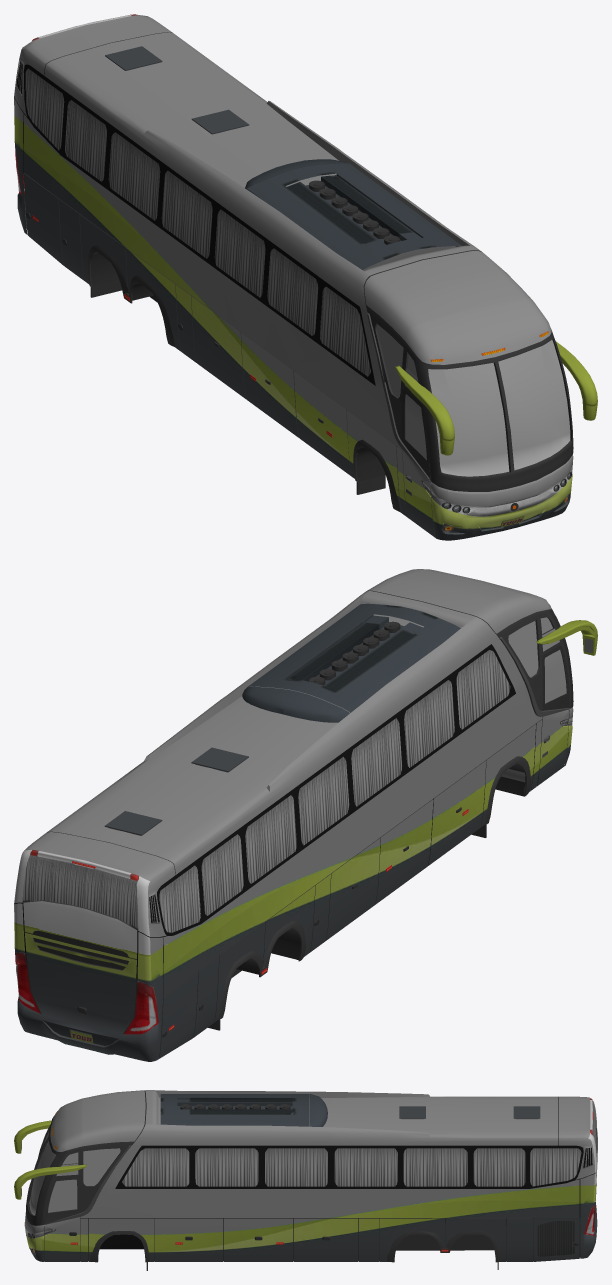
The model's file is BUS_NO_5.FBX.
3 views of the same model, one above another, from view 1: azimuth 30°, elevation 25°; view 2: azimuth 150°, elevation 25°; view 3: azimuth 270°, elevation 25° (orthographic). The views are drawn at different scales.
Parts seen in each view (by area): view 1: BUS_NO_5, Door; view 2: BUS_NO_5, Door; view 3: BUS_NO_5.
Part boxes in pixels (x1=…): BUS_NO_5: x1=14, y1=14, x2=597, y2=540; Door: x1=400, y1=389, x2=435, y2=537; BUS_NO_5: x1=14, y1=569, x2=597, y2=1061; Door: x1=537, y1=645, x2=569, y2=785; BUS_NO_5: x1=14, y1=1090, x2=597, y2=1270.
Size of the model in its own units: 14.18 by 19.28 by 70.12.
Materials: 8 (6 with a texture image).
